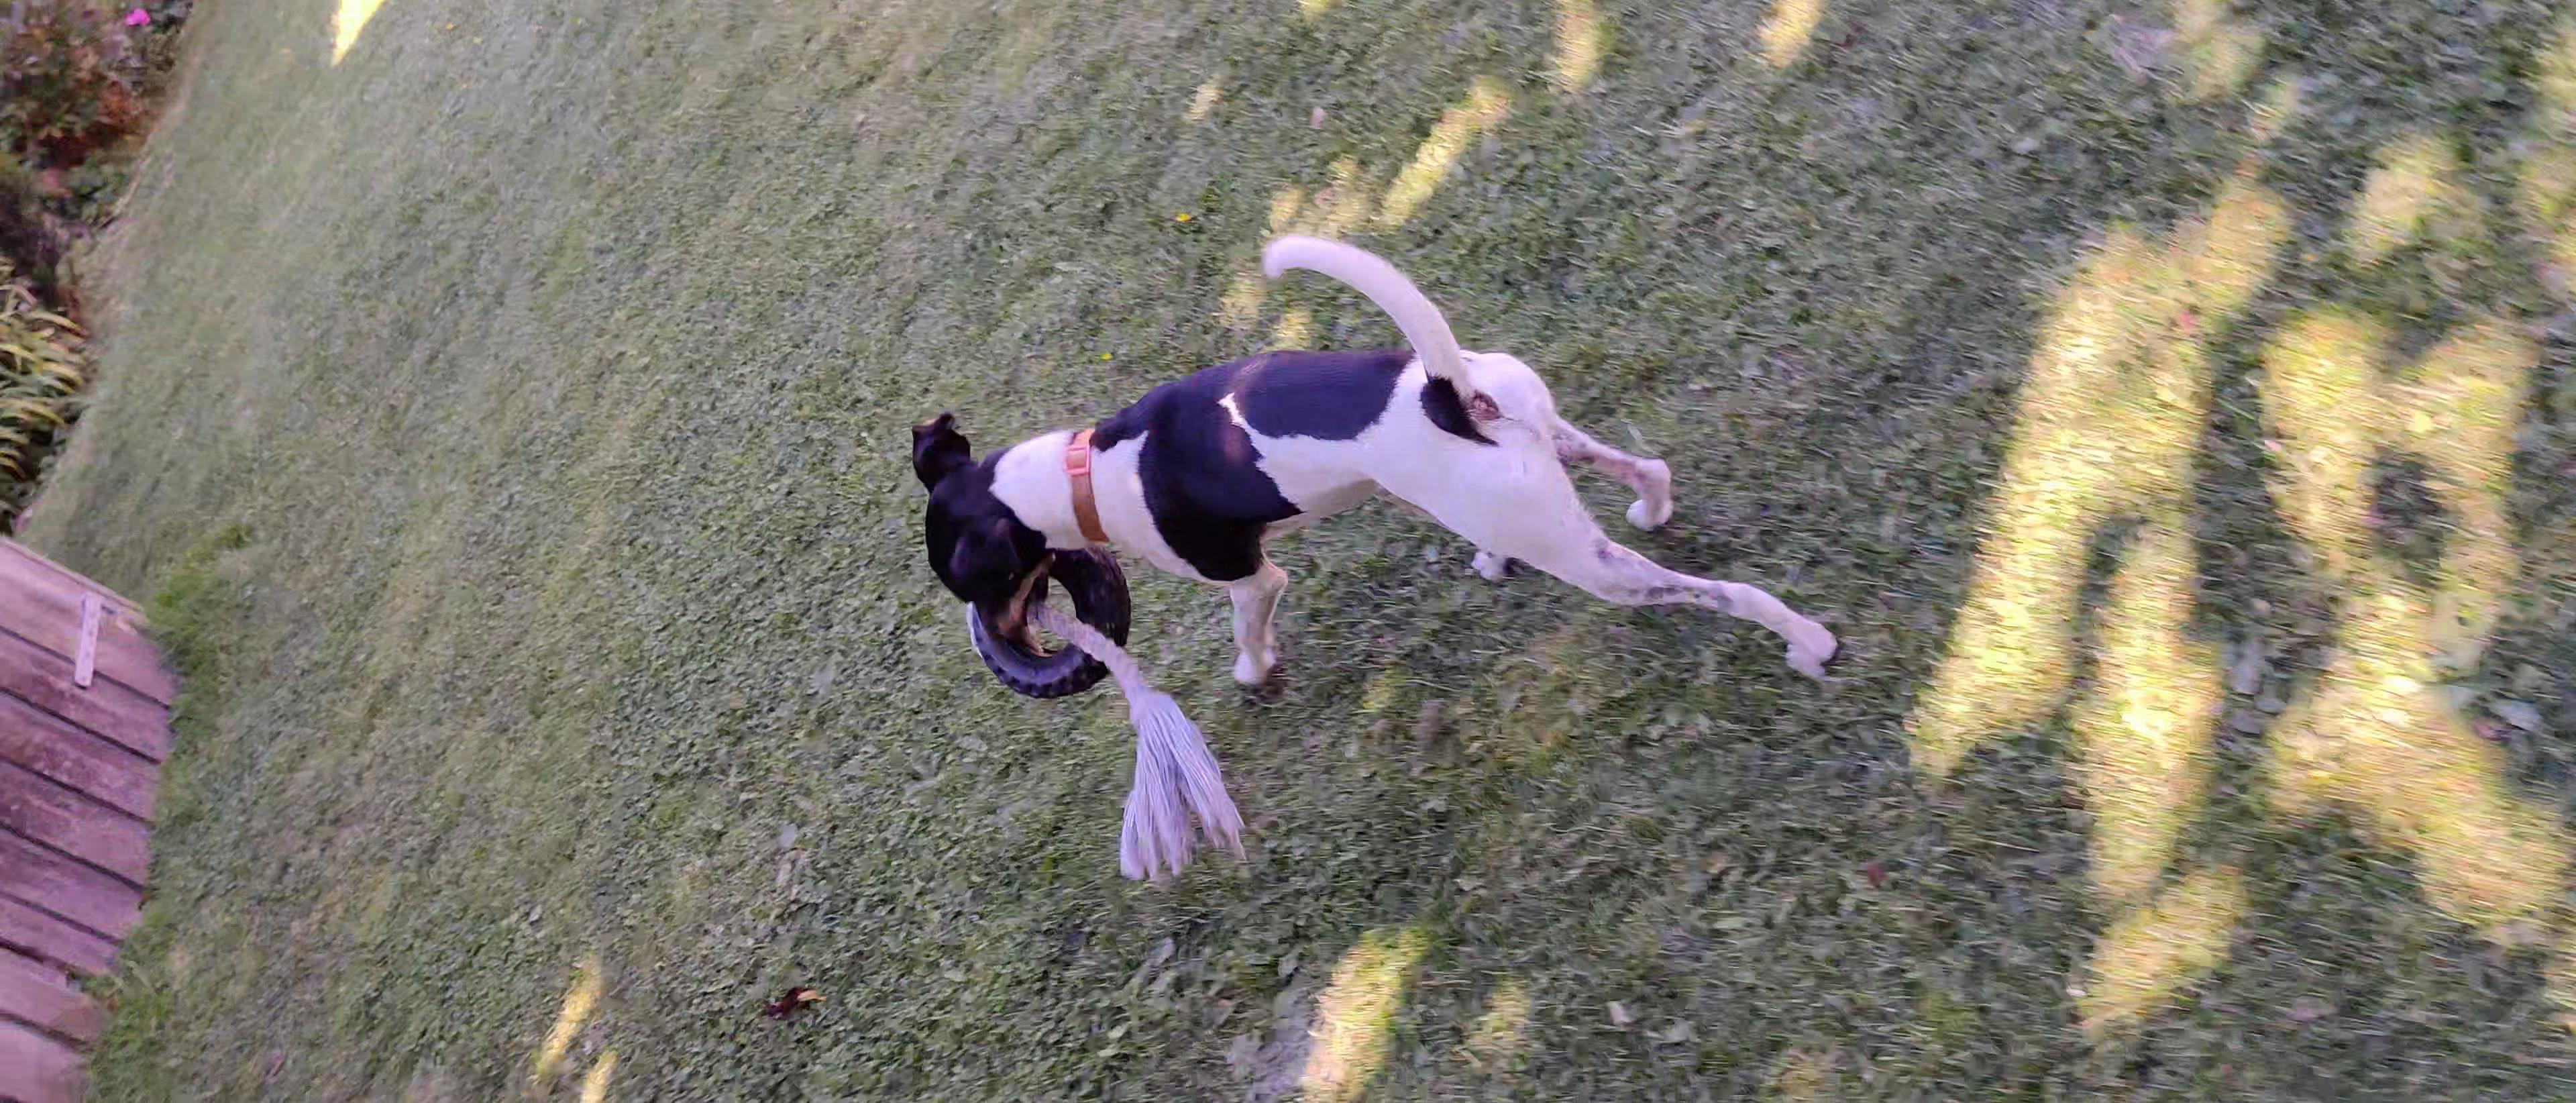Dog: (897, 224, 1856, 699)
